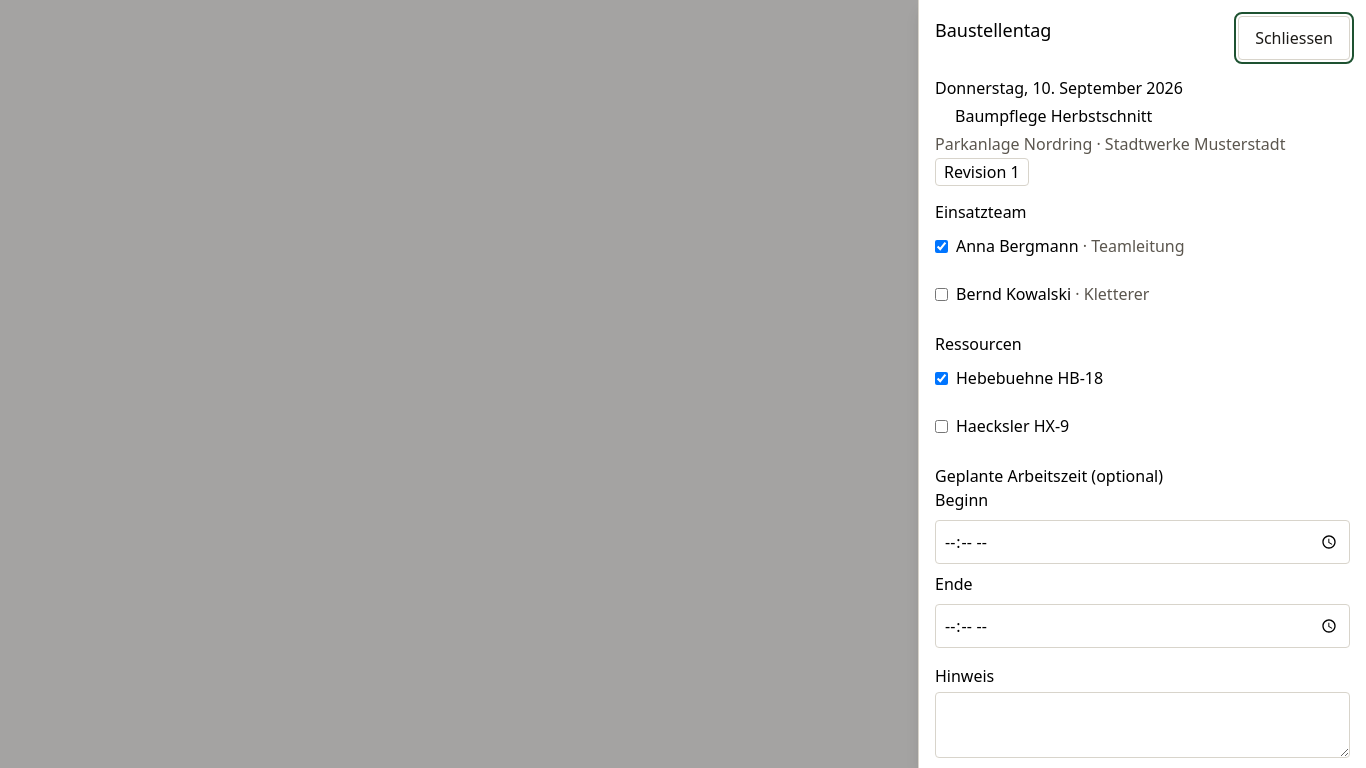
DayDrawer › aktiviert Speichern erst nach einer Aenderung an Team oder Ressourcen
The width and height of the screenshot is (1366, 768).
Expected: the element with test id "tageskopf" is shown, [935,77,1285,186]
Click the checkbox named "Bernd Kowalski, Kletterer": [942, 294] box [935,288,948,300]
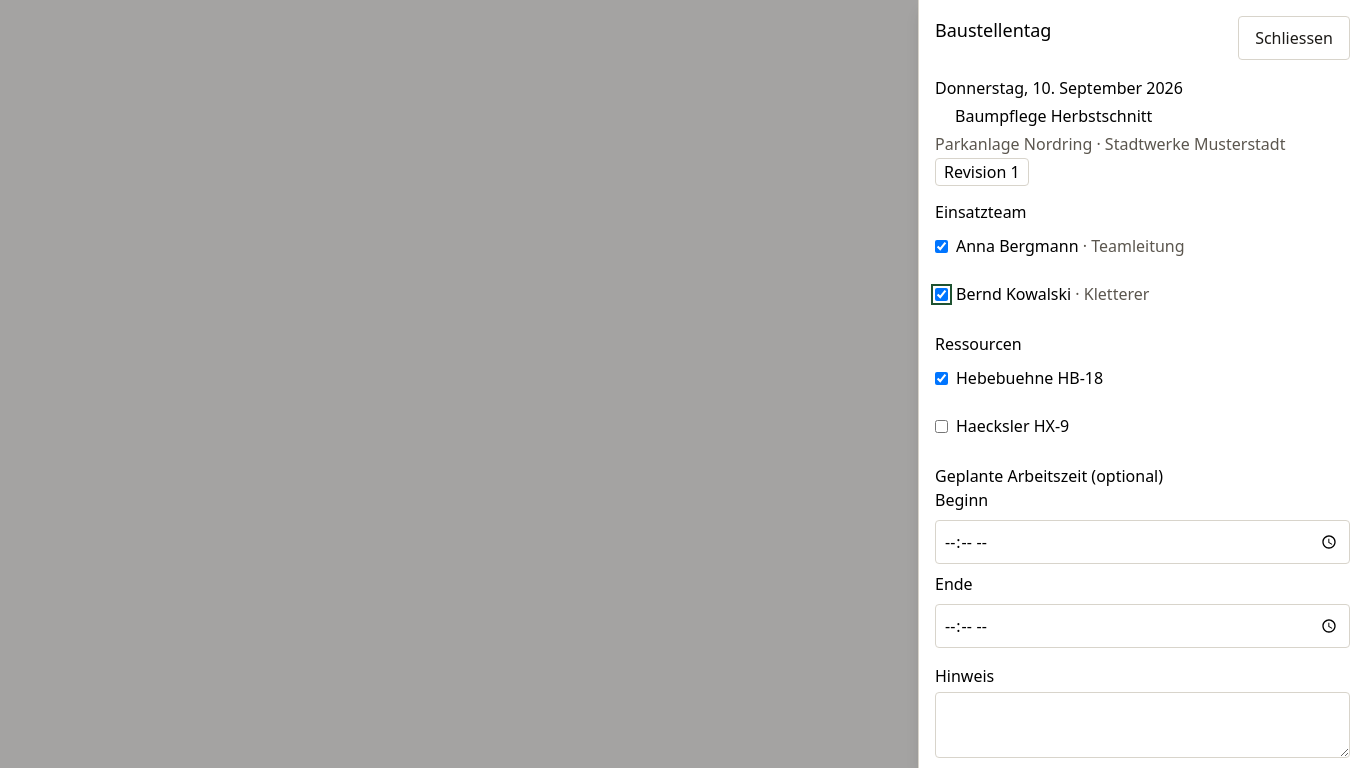
Click the checkbox labelled "Haecksler HX-9": [942, 426] box [935,420,948,432]
(page scrolled)
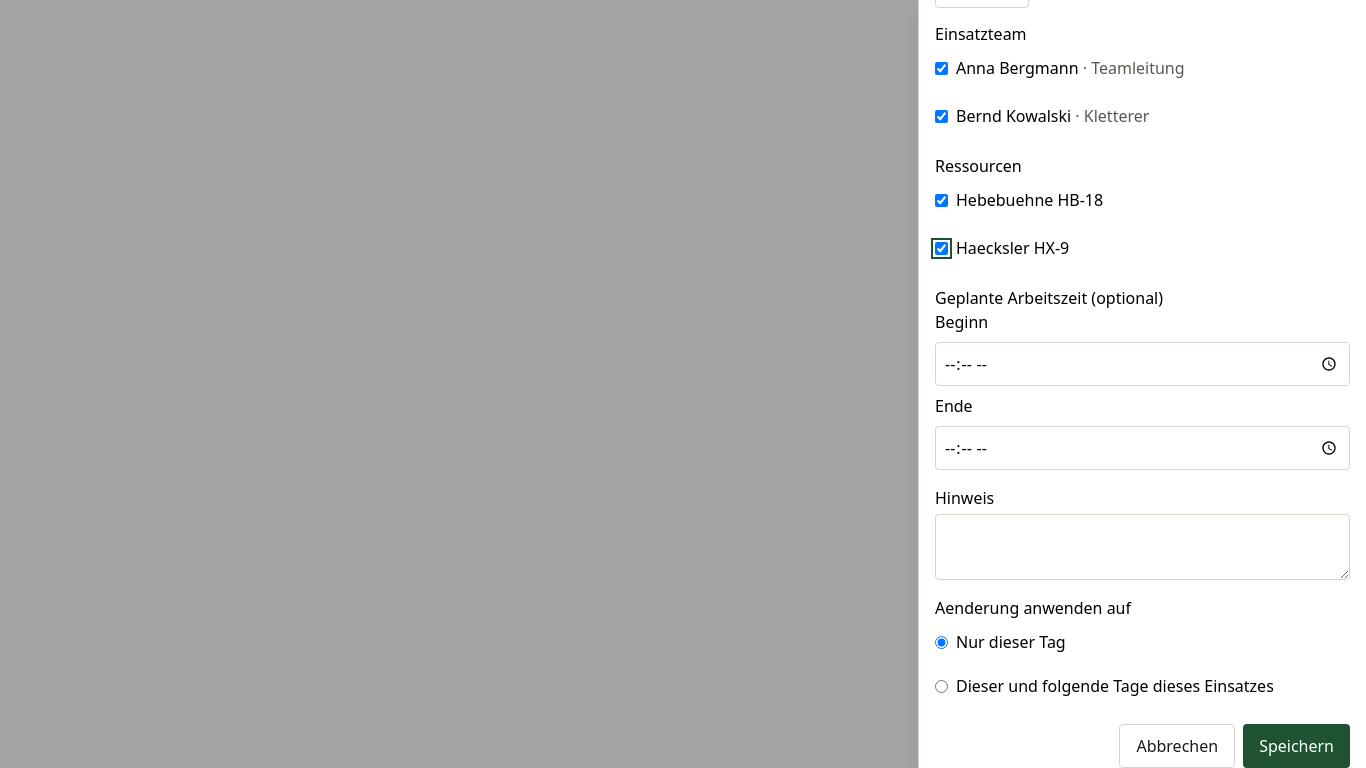
Result: the button "Speichern" is enabled at [1243,724,1350,767]
